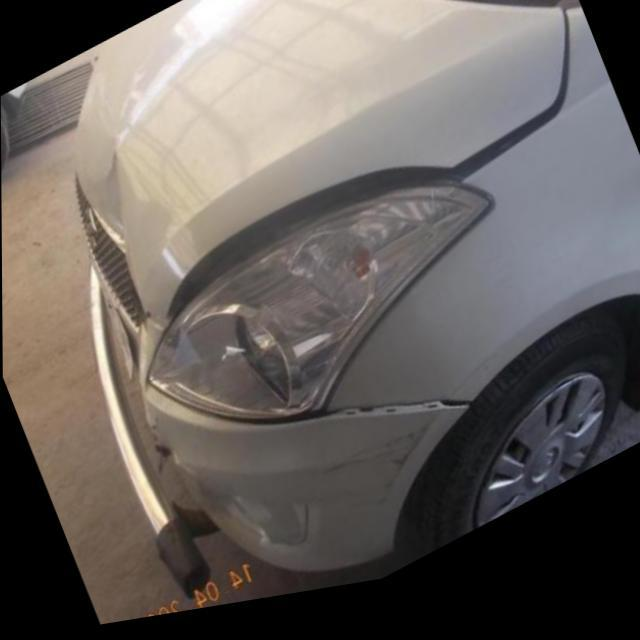crack: (318, 433, 429, 517), (152, 423, 182, 487)
dent: (87, 151, 128, 255)
dislocated part: (159, 58, 575, 333), (325, 408, 471, 439)
